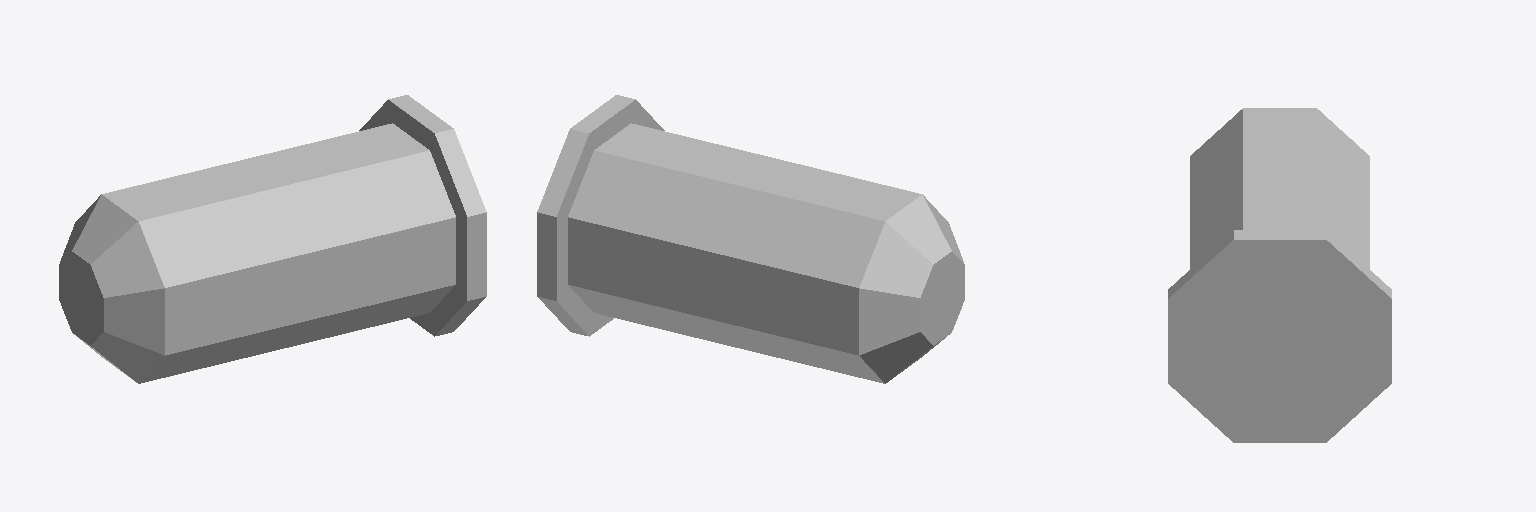
Rendered from pipeworks_pipe_2_lowpoly.obj.
The picture shows the model from 3 angles: view 1: azimuth 30°, elevation 25°; view 2: azimuth 150°, elevation 25°; view 3: azimuth 270°, elevation 25°; orthographic projection.
Parts seen in each view (by area): view 1: Cylinder.002_Cylinder.006_None; view 2: Cylinder.002_Cylinder.006_None; view 3: Cylinder.002_Cylinder.006_None.
Boxes of the visible parts, box(x1,y1,x2,y2) form: Cylinder.002_Cylinder.006_None: box(59, 95, 486, 383); Cylinder.002_Cylinder.006_None: box(537, 95, 964, 383); Cylinder.002_Cylinder.006_None: box(1168, 108, 1391, 442).
Size of the model in its own units: 0.5625 by 0.3125 by 0.3125.